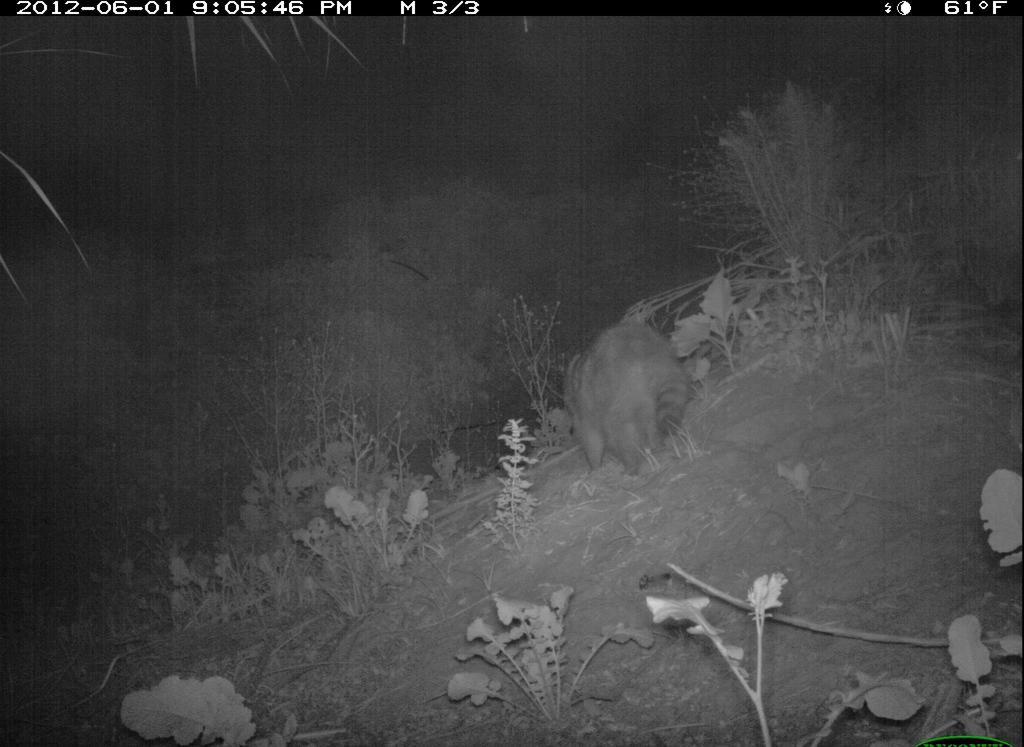raccoon: (541, 313, 703, 477)
